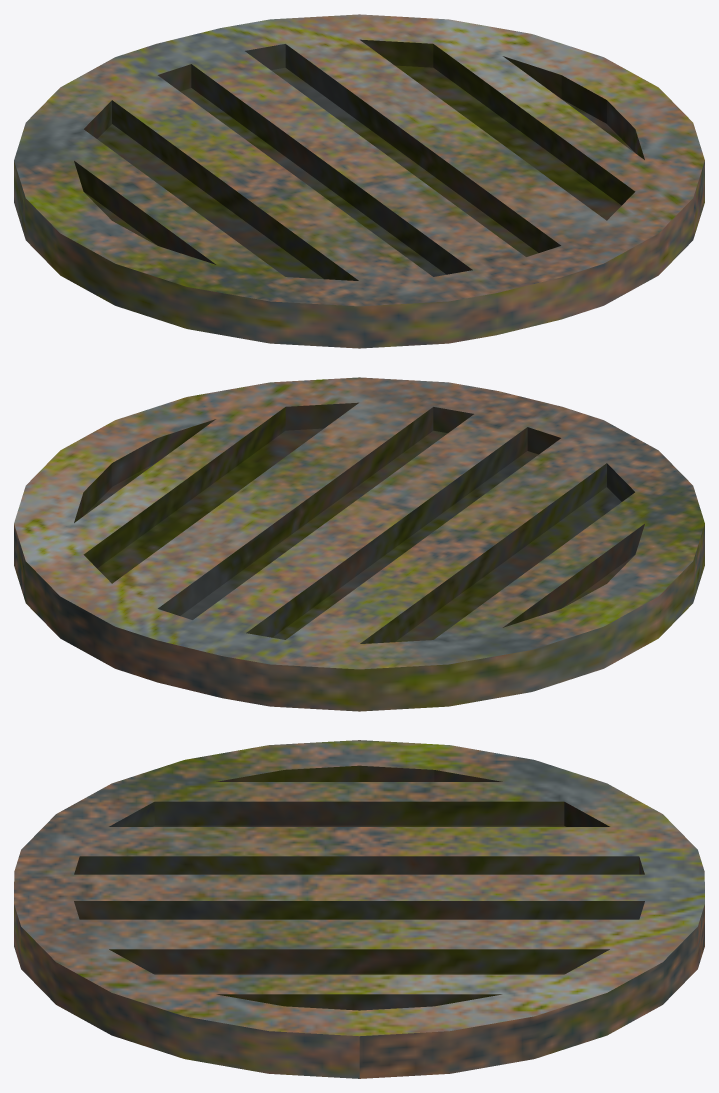
Rendered from grata 2.FBX.
The picture shows the model from 3 angles, top to bottom: view 1: azimuth 30°, elevation 25°; view 2: azimuth 150°, elevation 25°; view 3: azimuth 270°, elevation 25°; orthographic projection.
Visible parts, largest first — view 1: Cylinder002; view 2: Cylinder002; view 3: Cylinder002.
Part boxes in pixels (<box>): Cylinder002: <box>14,14,704,348</box>; Cylinder002: <box>14,377,704,711</box>; Cylinder002: <box>14,740,704,1078</box>.
Size of the model in its own units: 600 by 40.35 by 592.
1 material, 1 textured.
